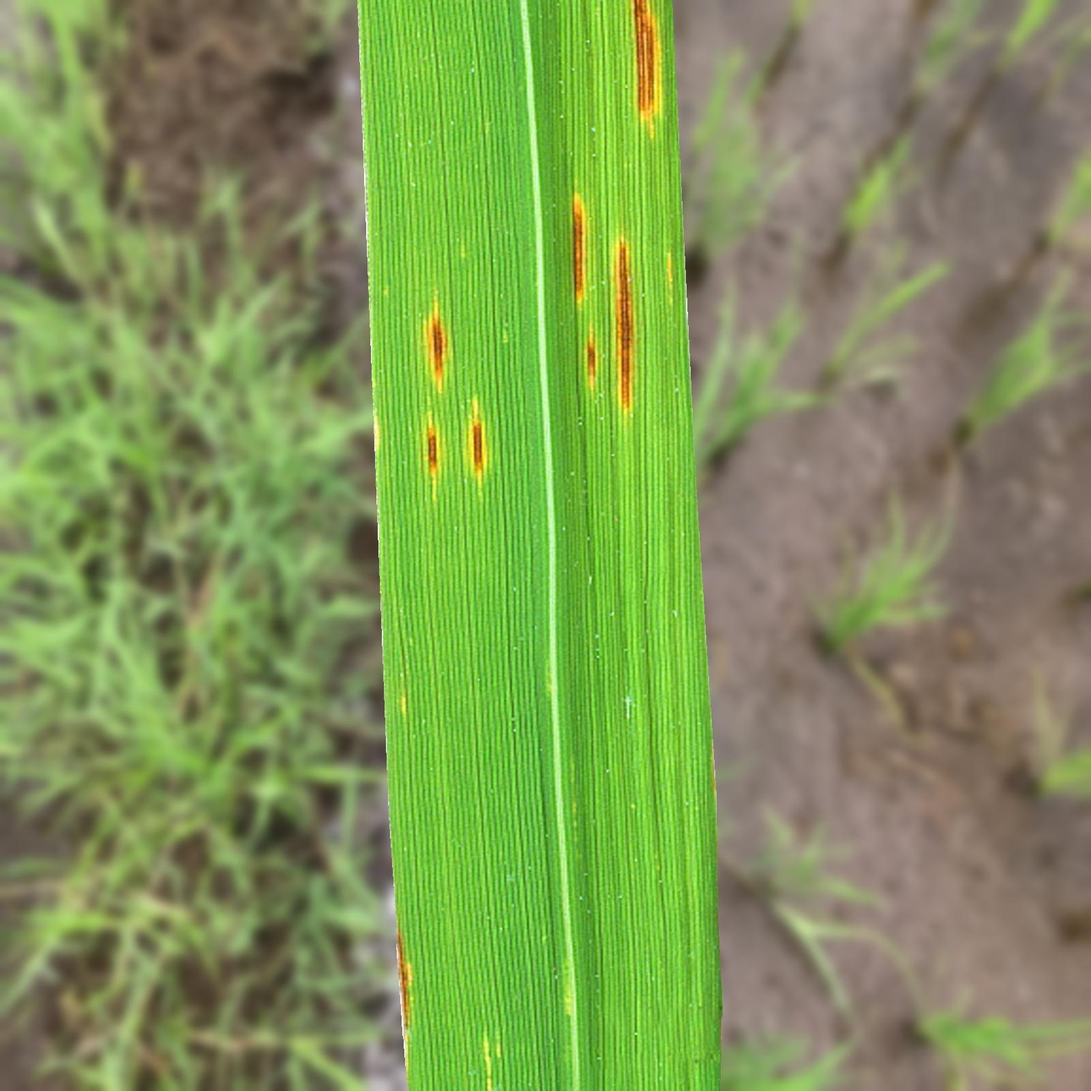LEAF: (357, 0, 722, 1090)
NBS: (633, 0, 661, 123), (615, 240, 633, 412), (426, 303, 448, 390), (396, 929, 411, 1042), (471, 398, 487, 483), (573, 194, 585, 303), (428, 426, 437, 505), (586, 331, 597, 388)
